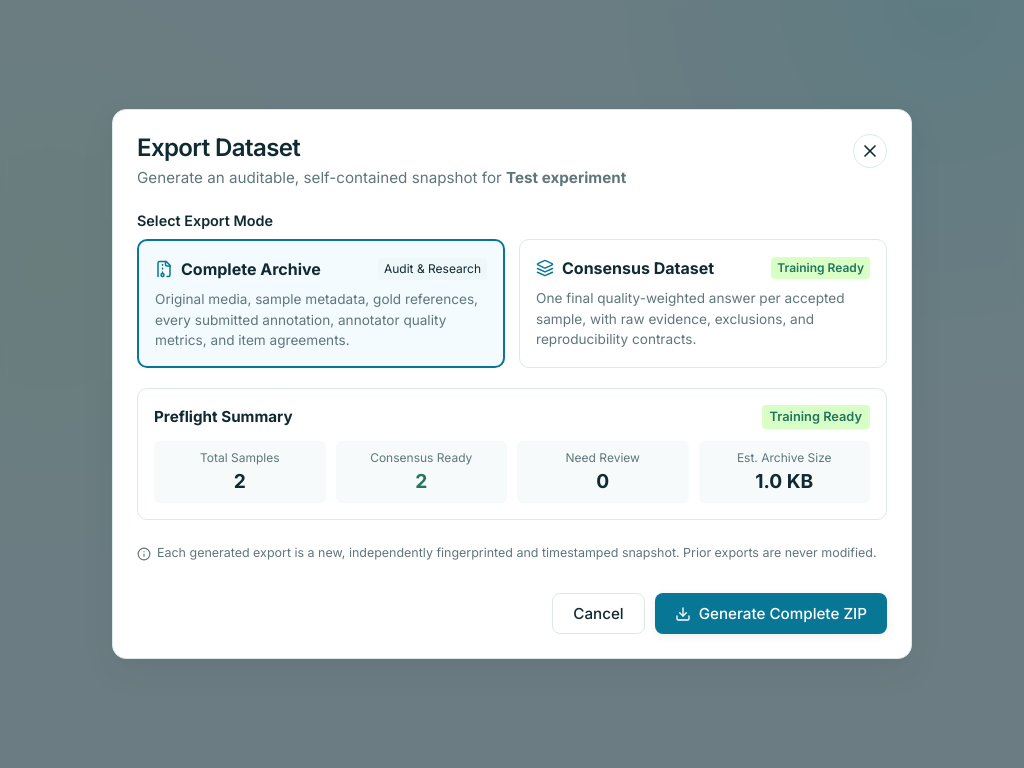
Test: ExportDatasetModal interactions › supports per-field reset buttons to revert individual fields to defaults
Check: the text "Preflight Summary" is shown, box 154,406 -> 293,428
Click the text "Consensus Dataset". click: click(638, 268)
box: 562,256 -> 714,280
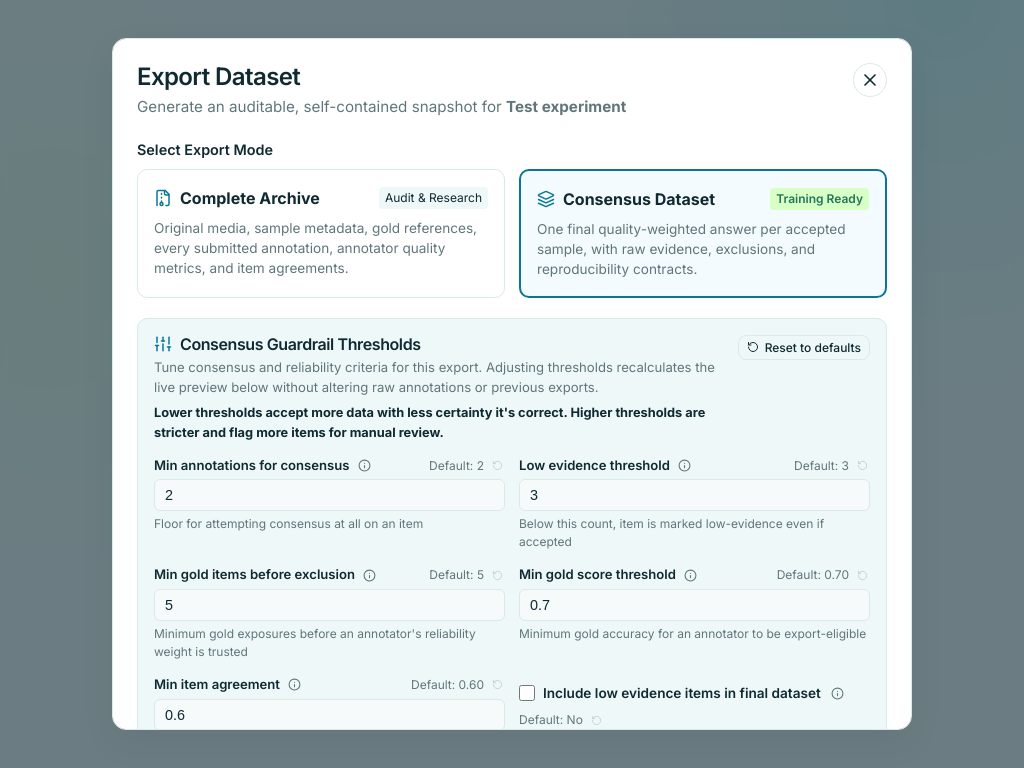
Check: the heading "Consensus Guardrail Thresholds" is shown, box 180,335 -> 421,354
Note: Modify both fields
Replace the text in the number field labelled "Min gold items before exclusion" with "2". click: (330, 605)
box: 154,589 -> 505,621
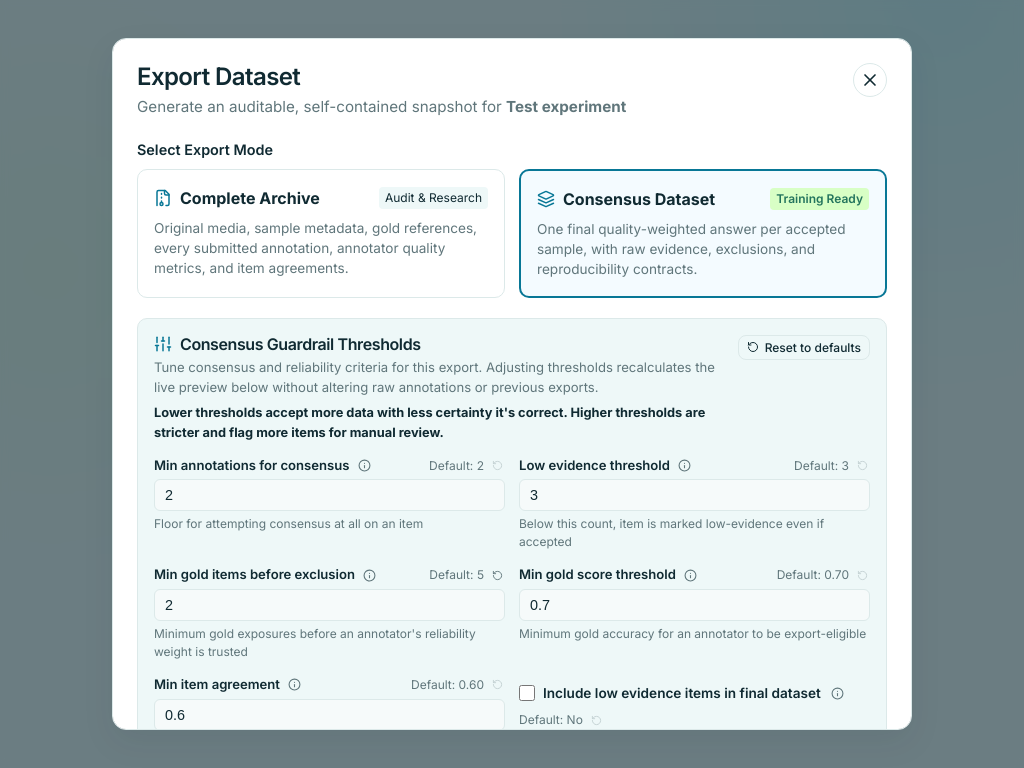
Replace the text in the number field labelled "Min item agreement" with "0.45". click: (330, 715)
box: 154,699 -> 505,731
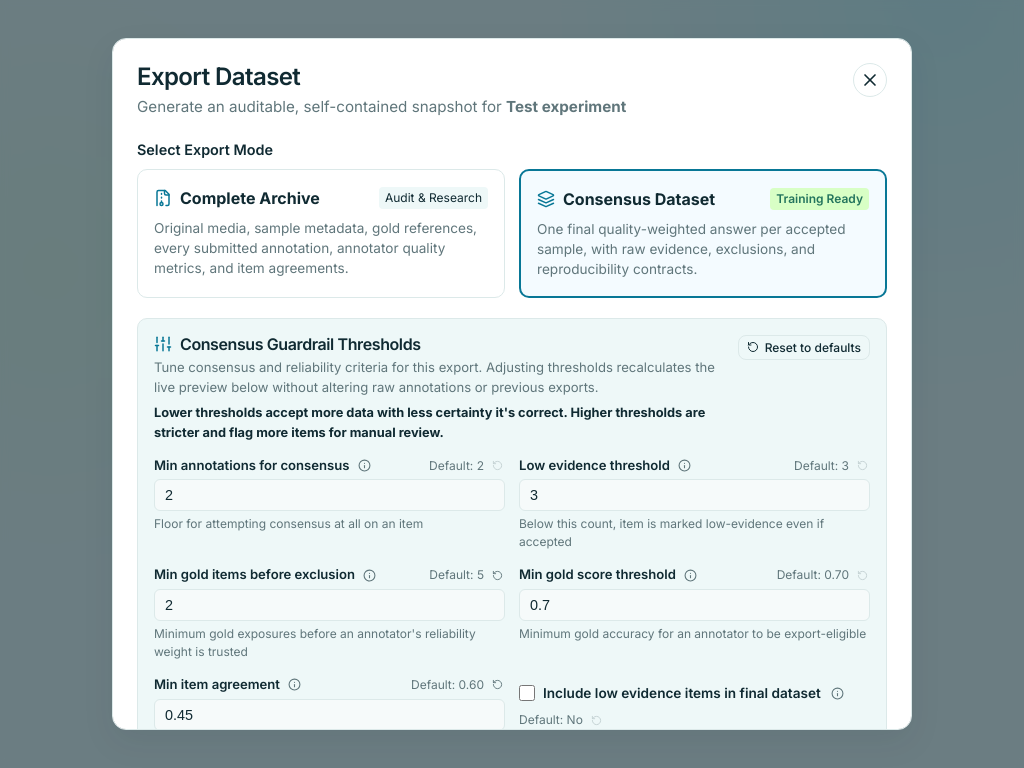
Note: Click per-field reset for min_gold_items only
Click the button named "Reset min_gold_items to default". click: click(498, 575)
box: 490,568 -> 505,583
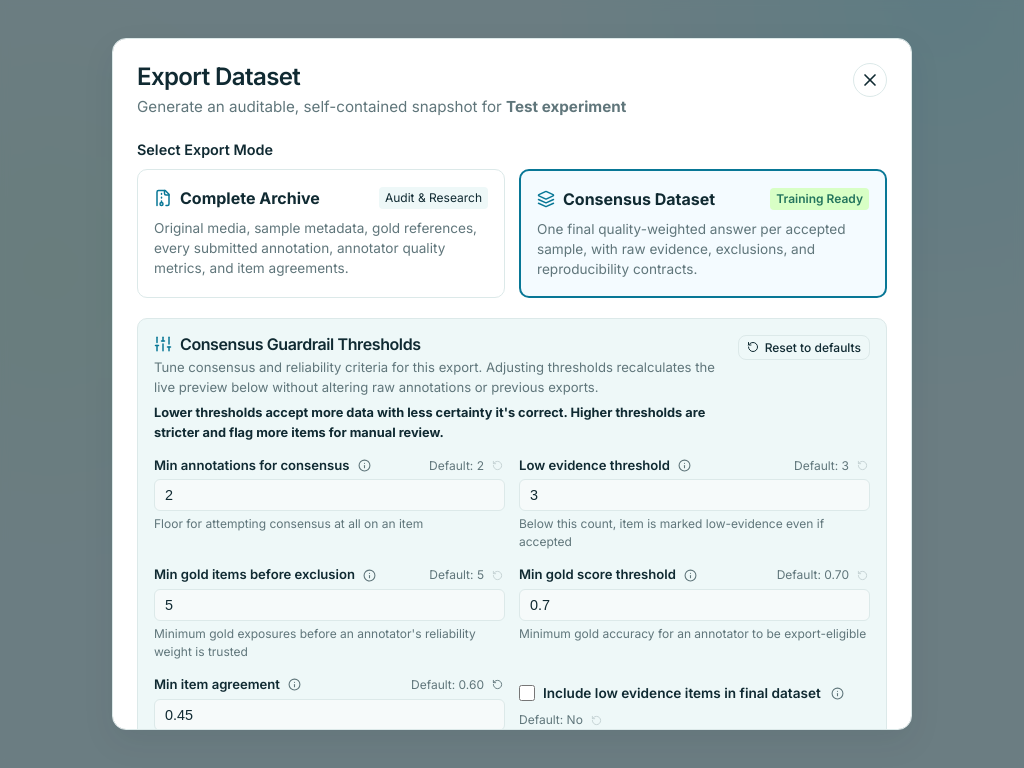
Check: the number field labelled "Min gold items before exclusion" holds "5", box 154,589 -> 505,621
